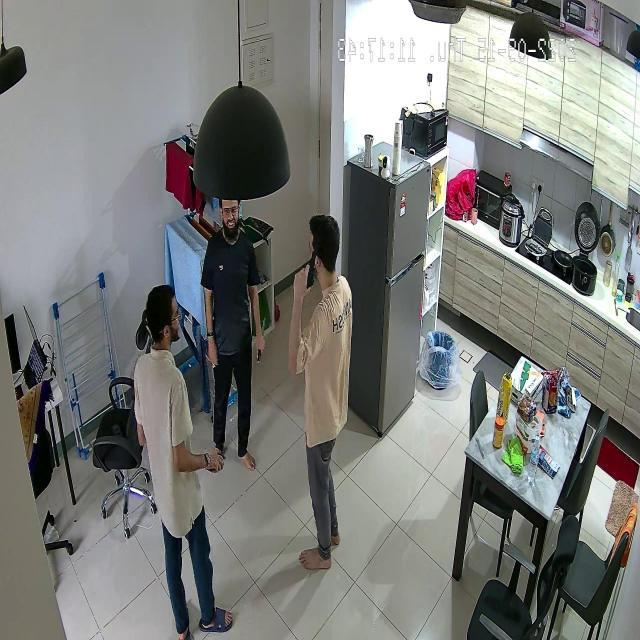Gun: (298, 247, 324, 298)
